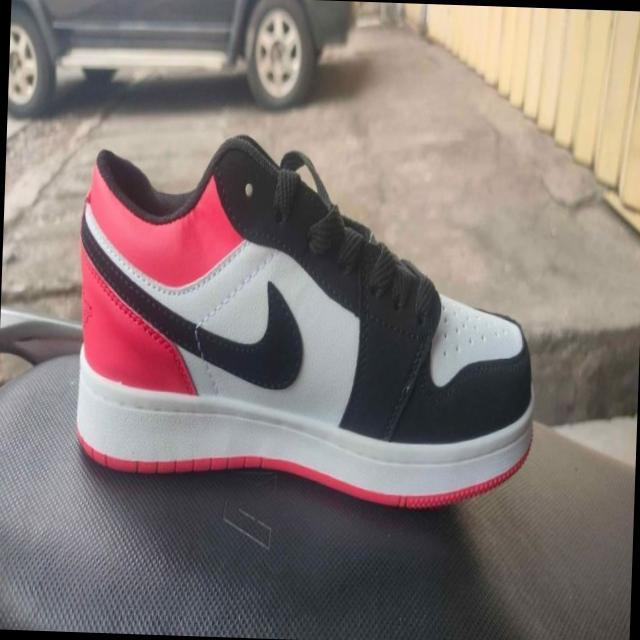nike fake jordan 1: (68, 128, 543, 514)
